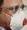with_mask: (1, 2, 27, 30)
